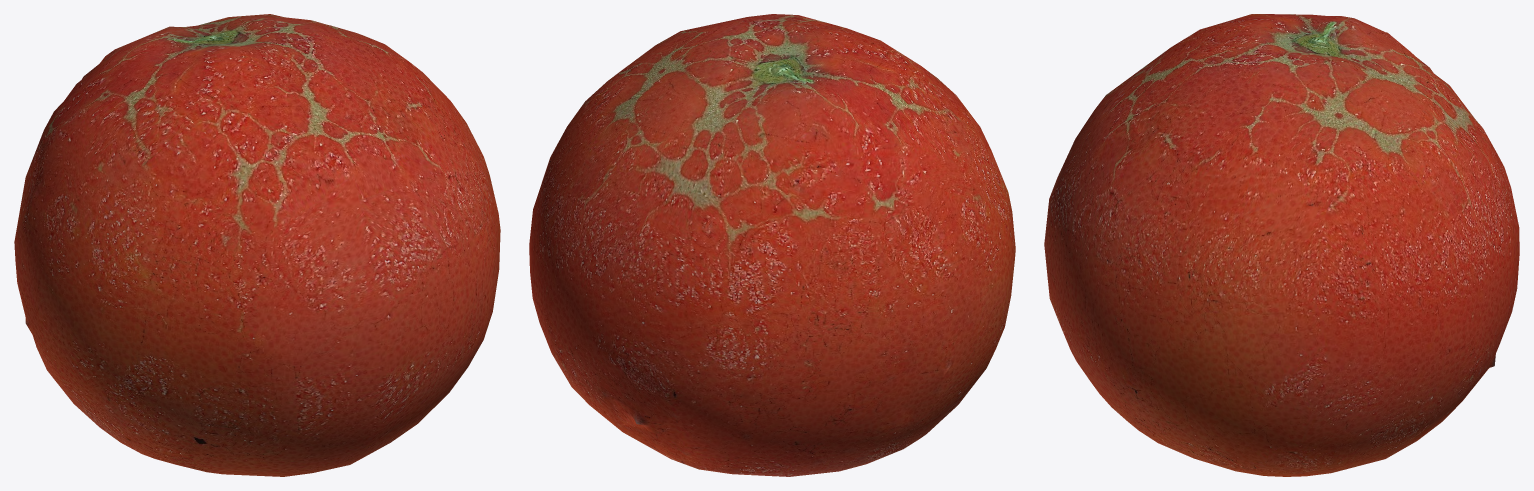
File: 39_grapefruit.glb
3 renders of one model, left to right at view 1: azimuth 30°, elevation 25°; view 2: azimuth 150°, elevation 25°; view 3: azimuth 270°, elevation 25°, orthographic. The views are drawn at different scales.
Parts seen in each view (by area): view 1: 39_grapefruit; view 2: 39_grapefruit; view 3: 39_grapefruit.
Boxes of the visible parts, x1,y1,x2,y2 form: 39_grapefruit: [14, 14, 500, 476]; 39_grapefruit: [529, 14, 1015, 476]; 39_grapefruit: [1044, 14, 1519, 476].
Bounding box in the file's own units: 0.9965 × 0.9158 × 0.9886.
Materials: 1 (1 with a texture image).
